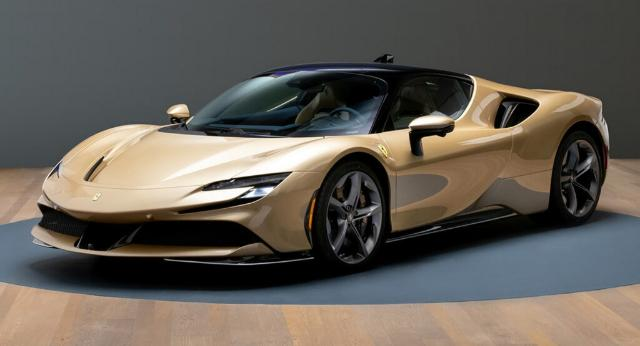ferrari: (30, 53, 610, 275)
